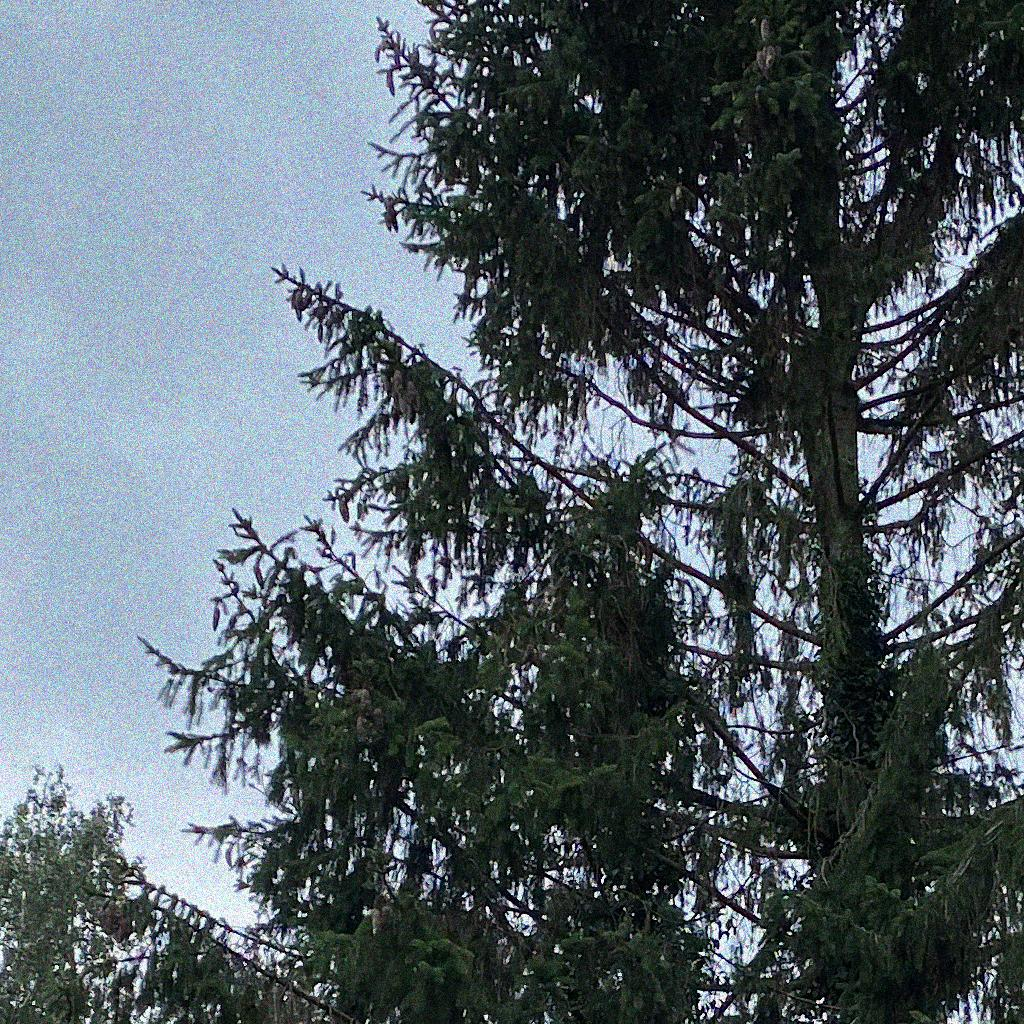tree: (77, 1, 1023, 1023), (1, 763, 147, 1024)
